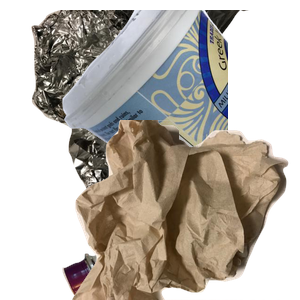glass: (60, 180, 300, 300)
metal: (29, 10, 269, 190)
plastic: (60, 10, 300, 190)
trash: (70, 120, 300, 300)
